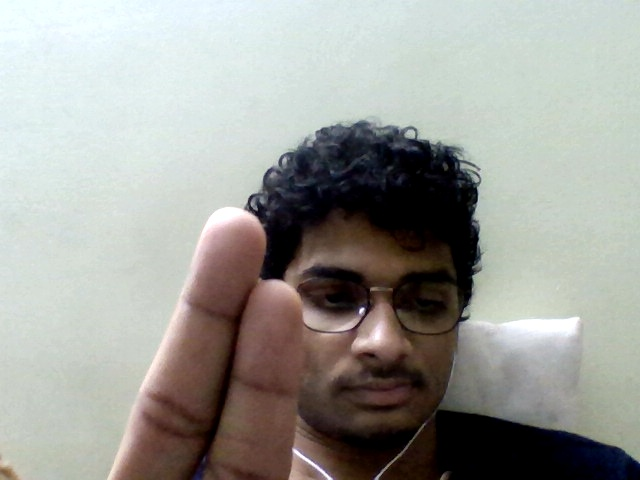LiveLong: (2, 207, 309, 480)
